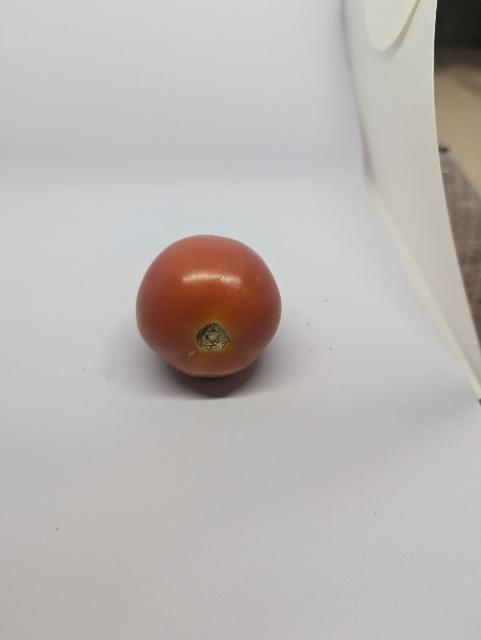red: (122, 225, 296, 398)
